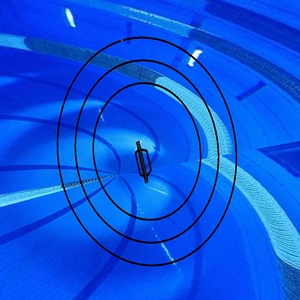circle: (54, 35, 240, 268)
submarine: (129, 138, 157, 188)
